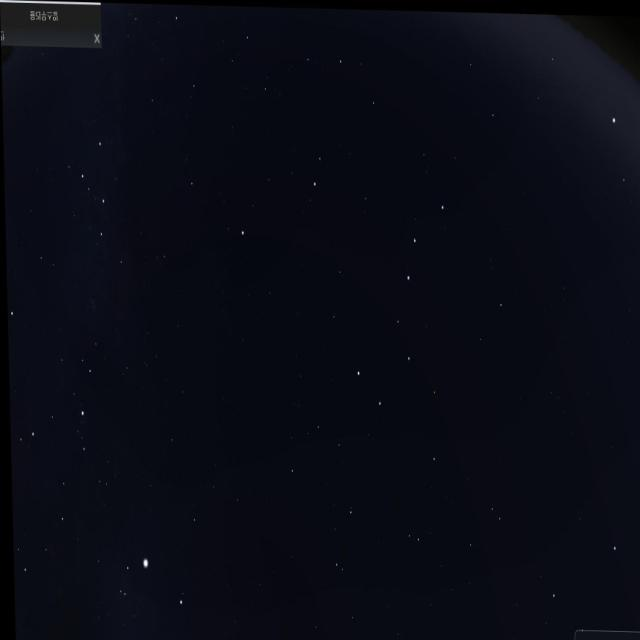cassiopeia: (64, 142, 152, 284)
ursa_major: (350, 192, 451, 418)
